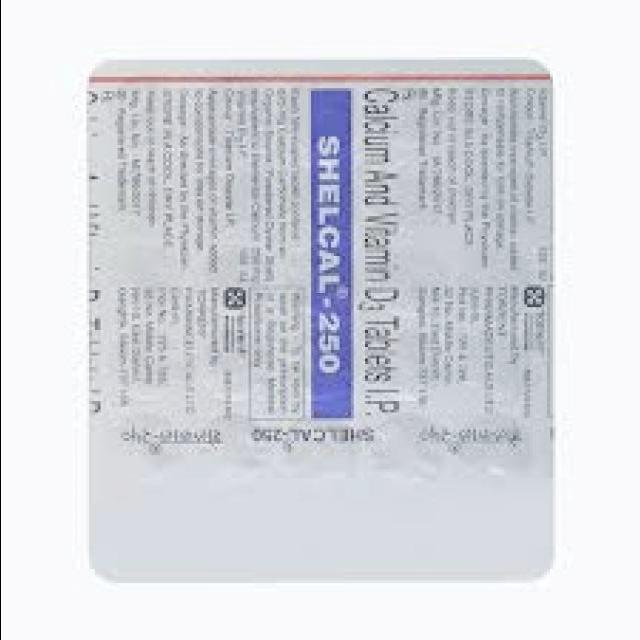authentic: (76, 48, 559, 590)
